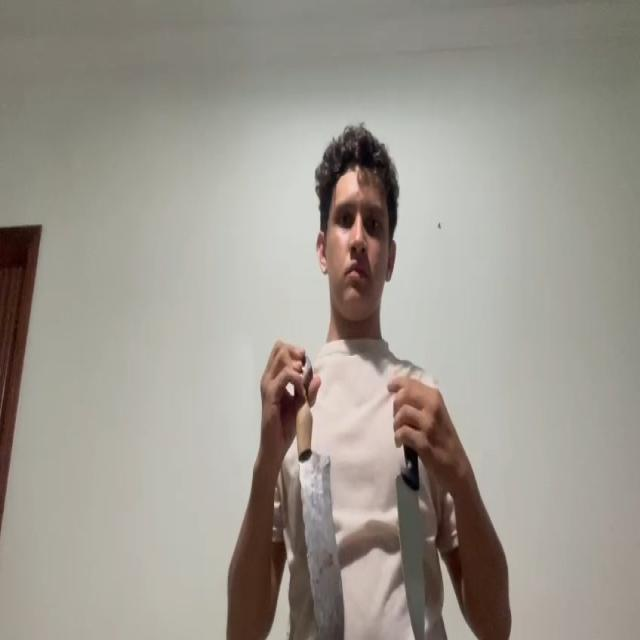knife: (297, 448, 345, 640), (394, 472, 428, 640)
